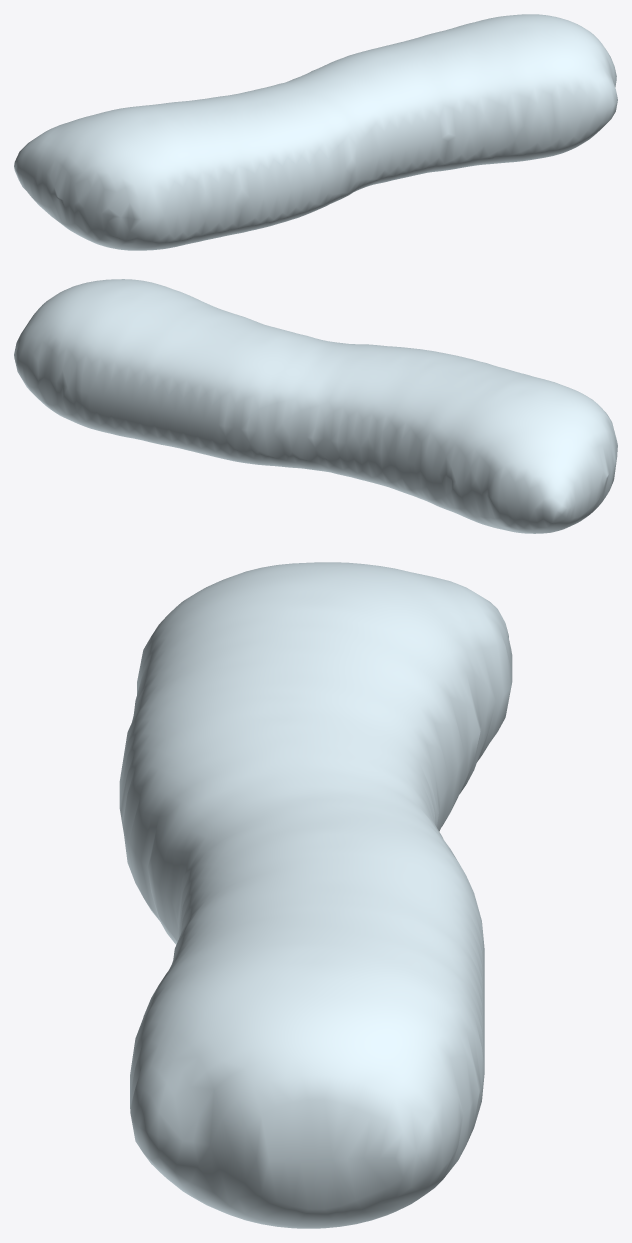
File: Snow Divider2.fbx
3 views of the same model, one above another, from view 1: azimuth 30°, elevation 25°; view 2: azimuth 150°, elevation 25°; view 3: azimuth 270°, elevation 25° (orthographic). The views are drawn at different scales.
Visible parts, largest first — view 1: root; view 2: root; view 3: root.
Boxes of the visible parts, bbox=[...] form: root: bbox=[14, 14, 617, 250]; root: bbox=[14, 279, 617, 533]; root: bbox=[119, 562, 512, 1228].
Bounding box in the file's own units: 0.3526 × 0.0728 × 0.1095.
1 material, 1 textured.
